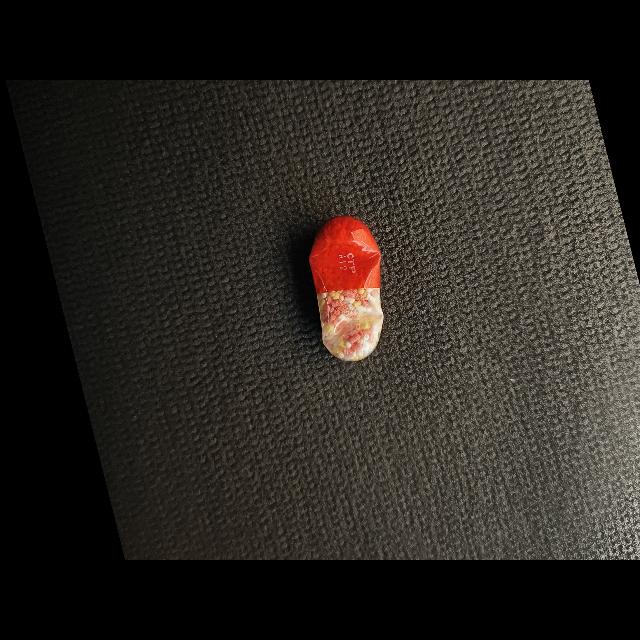Defective Capsule: (309, 216, 384, 361)
